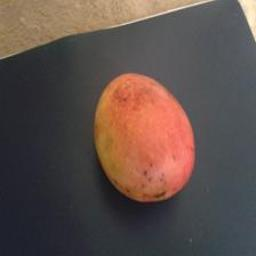Mango Semifresh: (82, 65, 199, 200)
